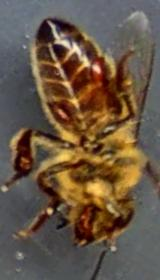varroa_mite: (36, 86, 76, 134), (84, 48, 112, 88)
